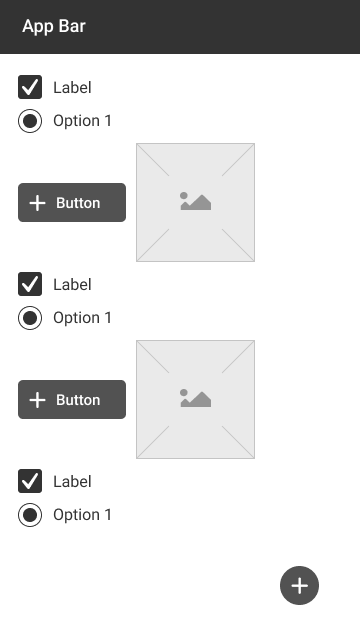buttonImage: (16, 179, 128, 225), (16, 377, 130, 422)
checkBox: (15, 73, 95, 102), (18, 271, 94, 300), (16, 467, 93, 494)
floatingButton: (277, 563, 324, 608)
imageView: (133, 337, 259, 462), (134, 140, 259, 265)
radioButton: (16, 500, 113, 531), (16, 304, 113, 332), (18, 108, 112, 136)
toolbar: (1, 1, 360, 54)
